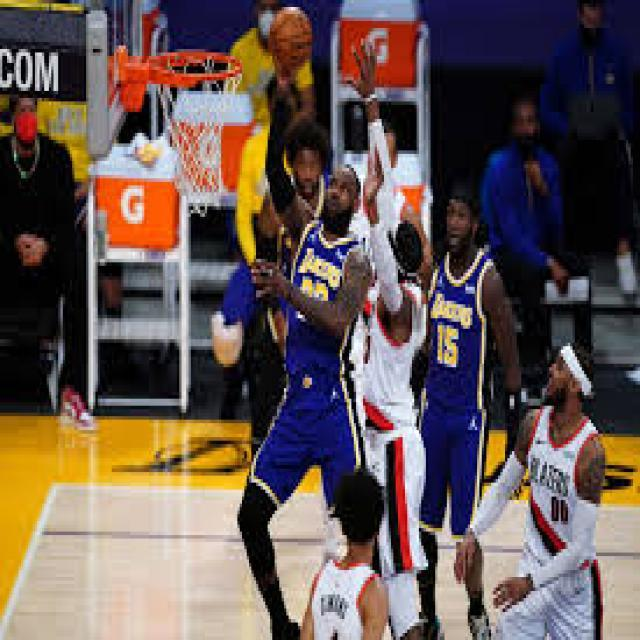rim: (272, 6, 312, 66)
